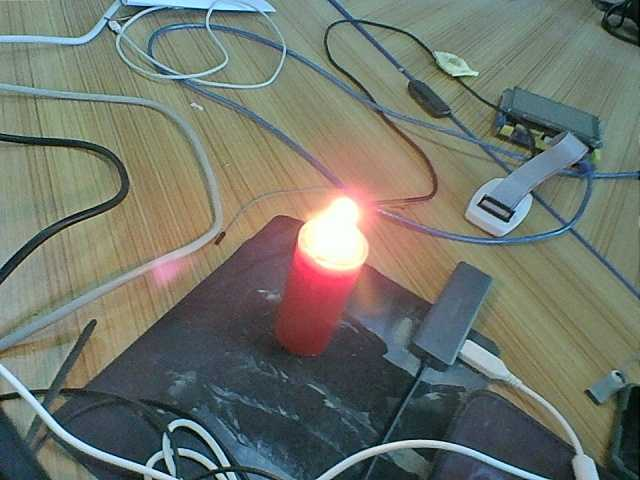candle: (288, 253, 352, 365)
fire: (312, 195, 367, 258)
